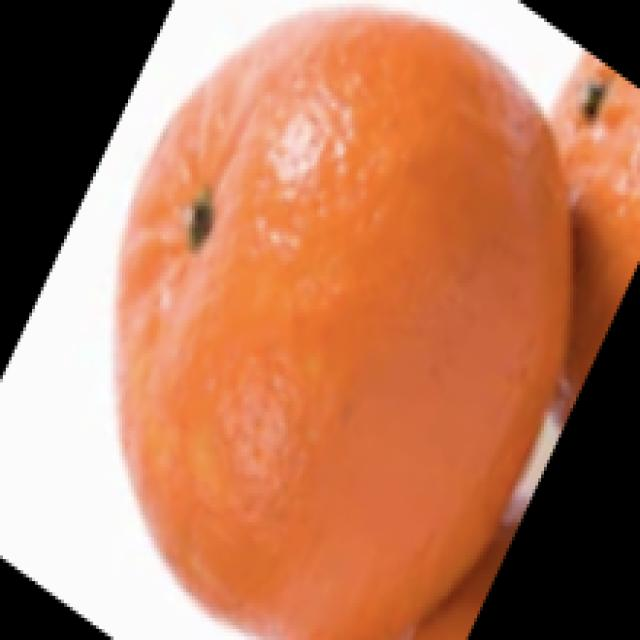matang: (123, 18, 565, 636), (555, 49, 637, 429)
